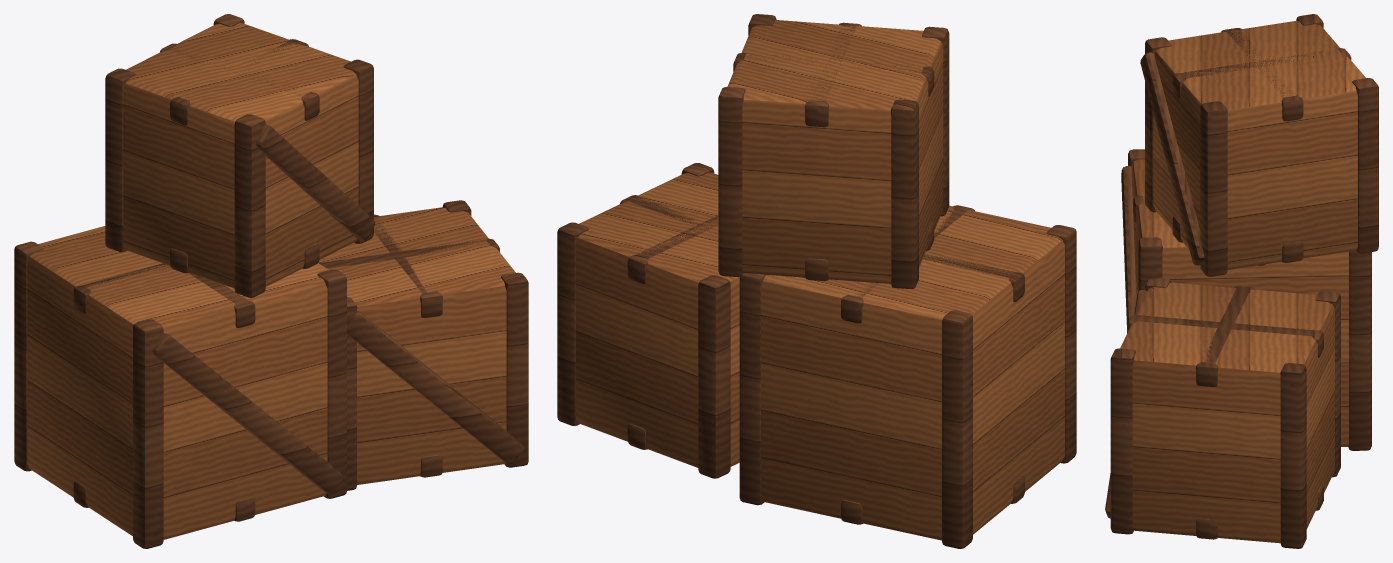
The model's file is GIN_UG_CrateStack.fbx.
3 renders of one model, left to right at view 1: azimuth 30°, elevation 25°; view 2: azimuth 150°, elevation 25°; view 3: azimuth 270°, elevation 25°, orthographic. The views are drawn at different scales.
Parts seen in each view (by area): view 1: GIN_UG_CrateStack; view 2: GIN_UG_CrateStack; view 3: GIN_UG_CrateStack.
Part boxes in pixels (left/top/right/bottom): GIN_UG_CrateStack: left=14, top=14, right=528, bottom=548; GIN_UG_CrateStack: left=557, top=14, right=1076, bottom=548; GIN_UG_CrateStack: left=1105, top=14, right=1378, bottom=548.
Bounding box in the file's own units: 1.94 × 1.72 × 1.14.
